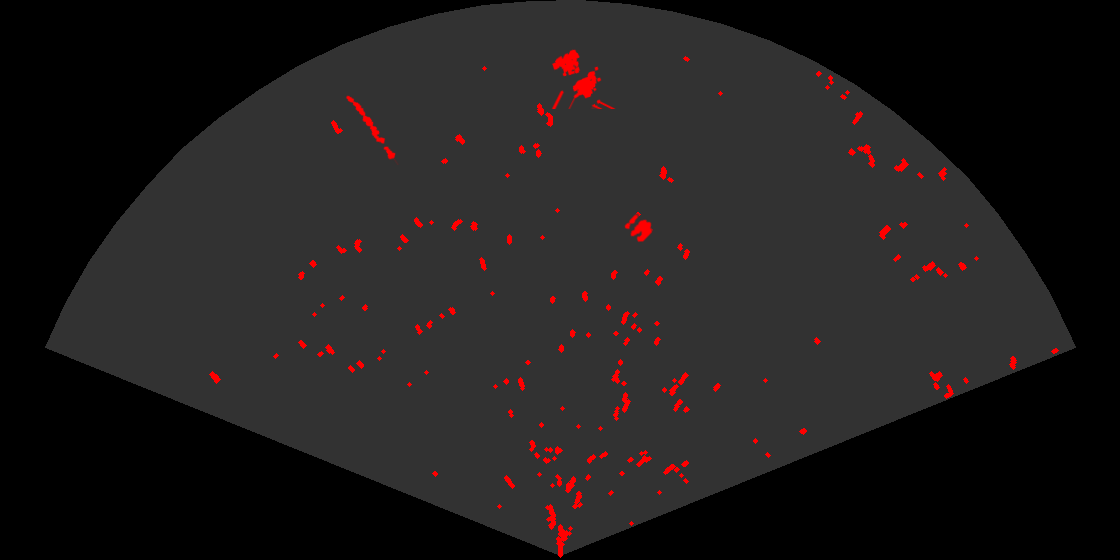ball: (623, 213, 654, 244)
cage: (550, 48, 617, 109)
chain: (344, 94, 400, 165)
